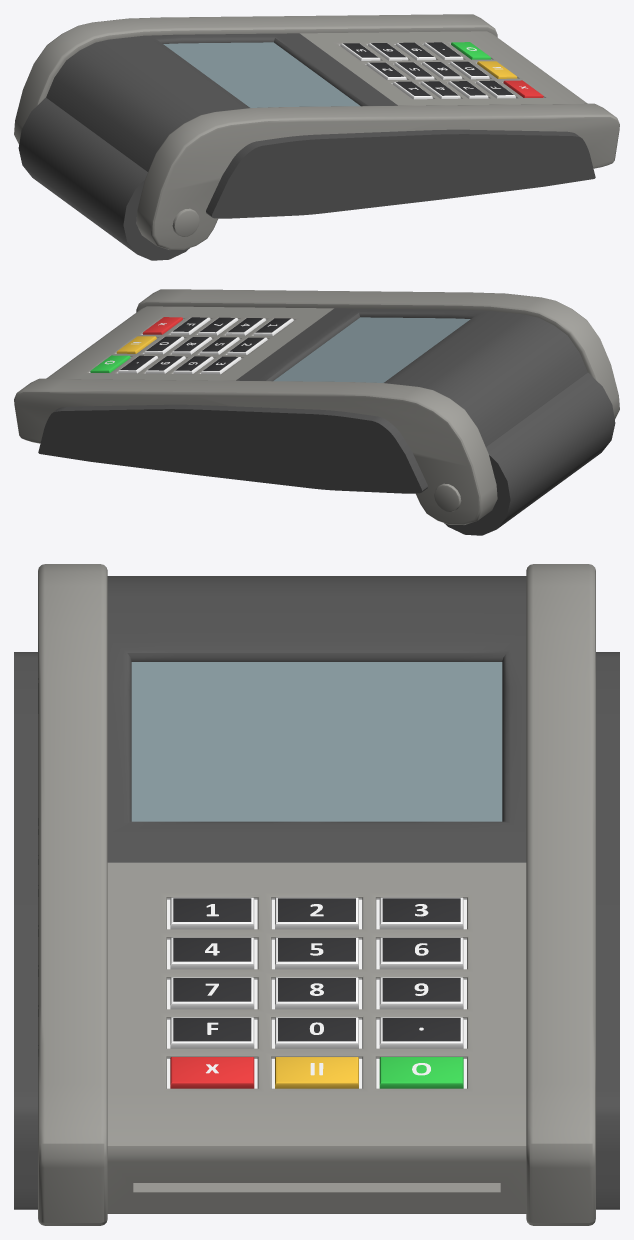
Rendered from pos-terminal_asset.glb.
3 renders of one model, top to bottom at view 1: azimuth 30°, elevation 25°; view 2: azimuth 150°, elevation 25°; view 3: azimuth 270°, elevation 25°, orthographic. The views are drawn at different scales.
Parts seen in each view (by area): view 1: pos_terminal; view 2: pos_terminal; view 3: pos_terminal.
Boxes of the visible parts, bbox=[...] form: pos_terminal: bbox=[14, 14, 619, 260]; pos_terminal: bbox=[14, 289, 619, 535]; pos_terminal: bbox=[14, 564, 619, 1225].
Bounding box in the file's own units: 0.2027 × 0.0557 × 0.1109.
